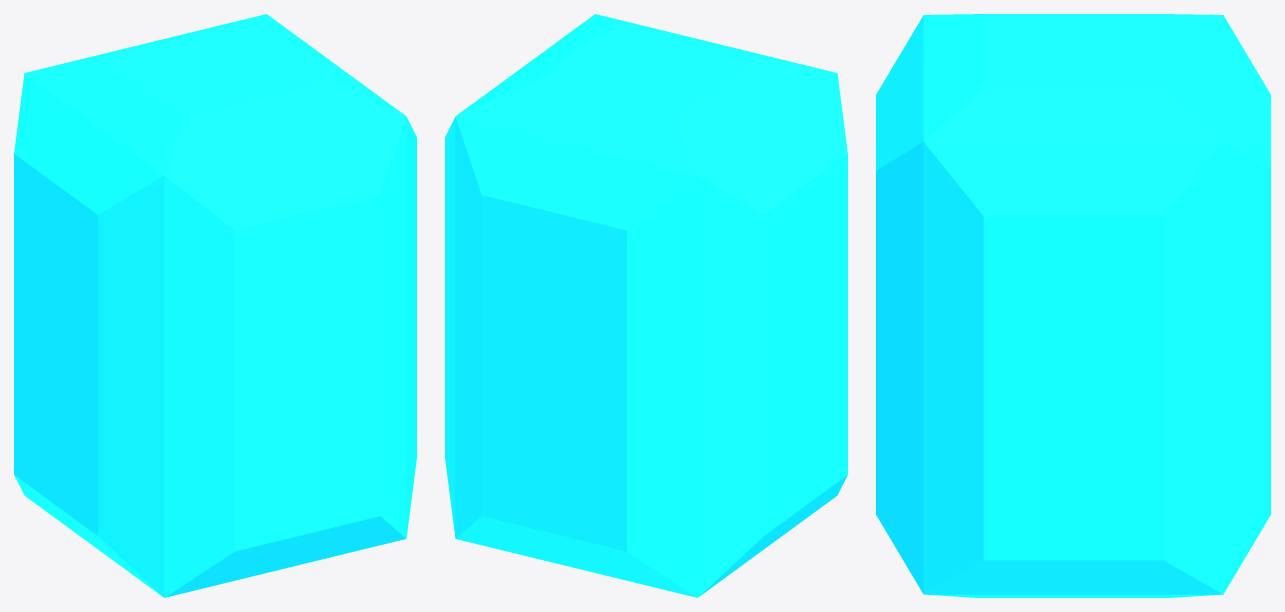
Rendered from TorchGem.FBX.
3 views of the same model, side by side, from view 1: azimuth 30°, elevation 25°; view 2: azimuth 150°, elevation 25°; view 3: azimuth 270°, elevation 25° (orthographic). The views are drawn at different scales.
Visible parts, largest first — view 1: LightGem; view 2: LightGem; view 3: LightGem.
Boxes of the visible parts, box(x1,y1,x2,y2) form: LightGem: box(14, 14, 416, 597); LightGem: box(445, 14, 847, 597); LightGem: box(876, 14, 1270, 597).
Size of the model in its own units: 5.74 by 8.1 by 5.74.
